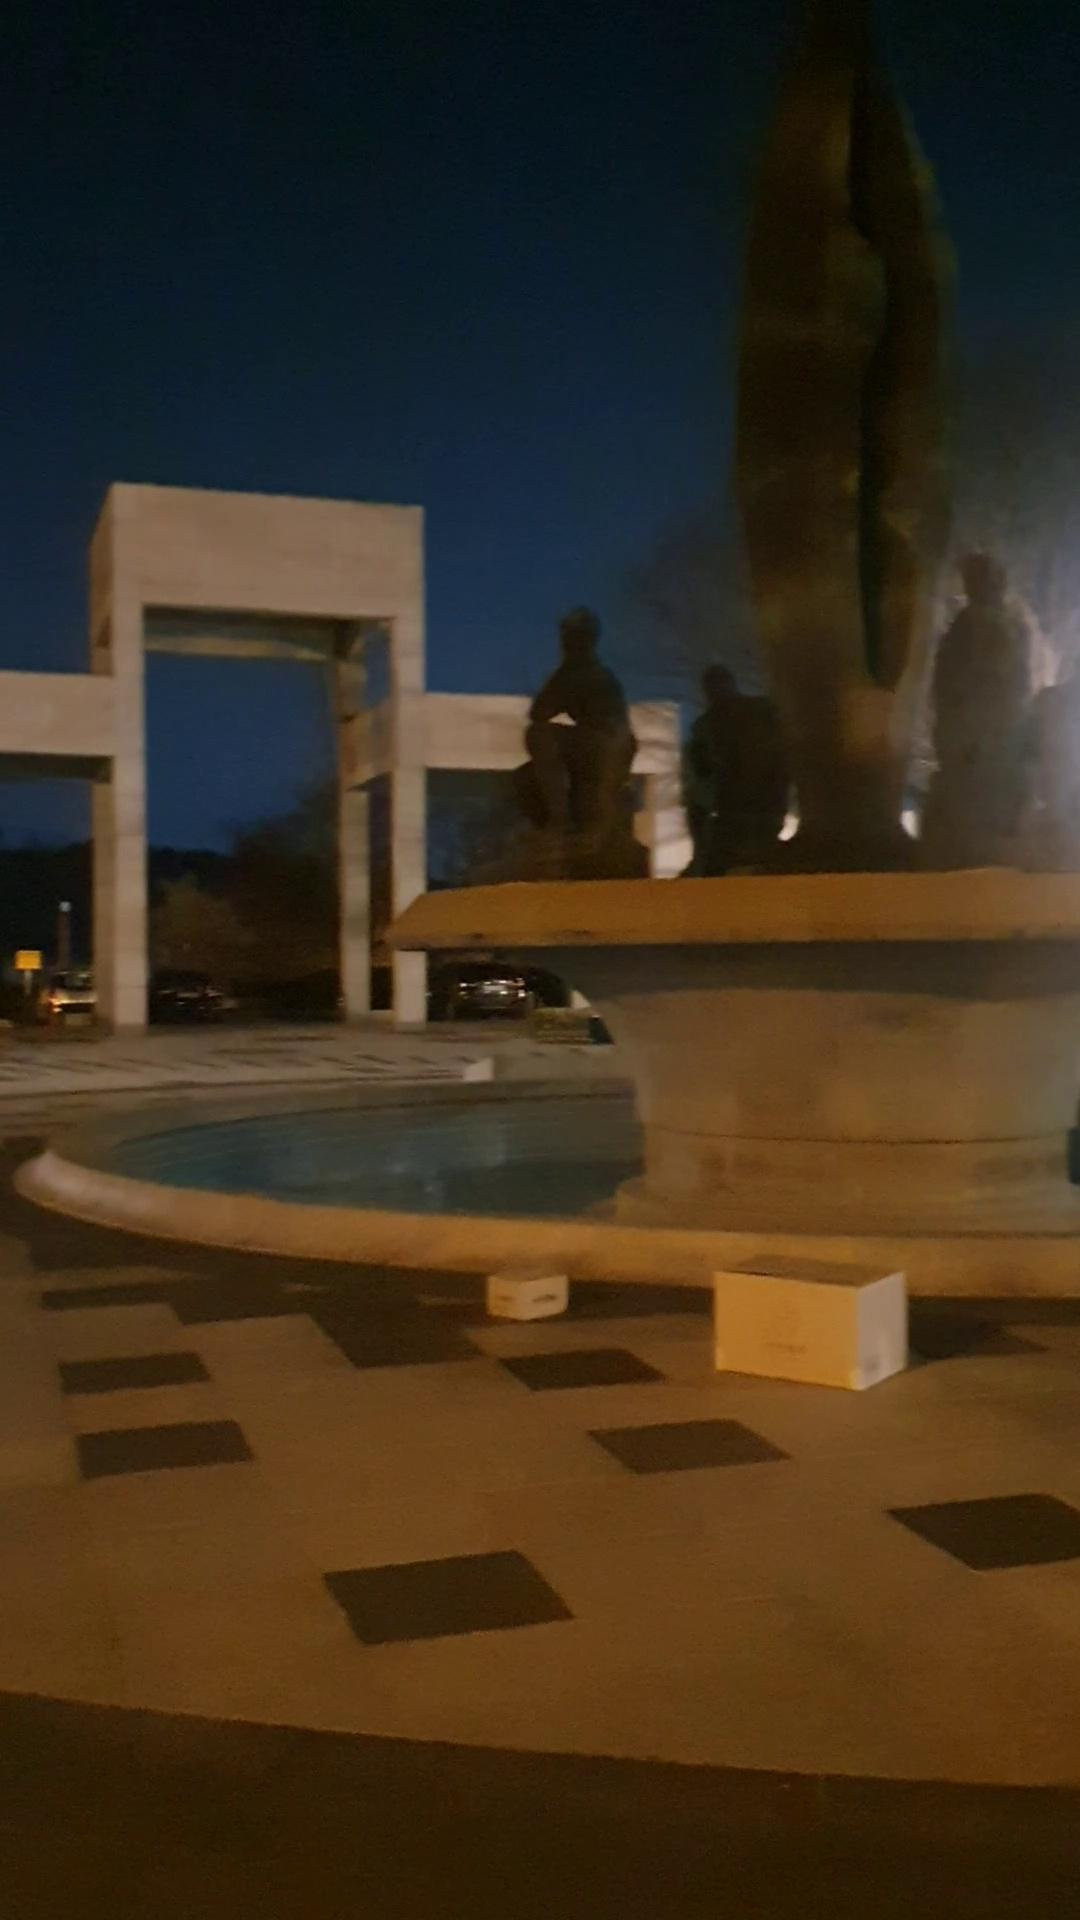Box: (696, 1238, 897, 1398), (465, 1261, 570, 1337)
